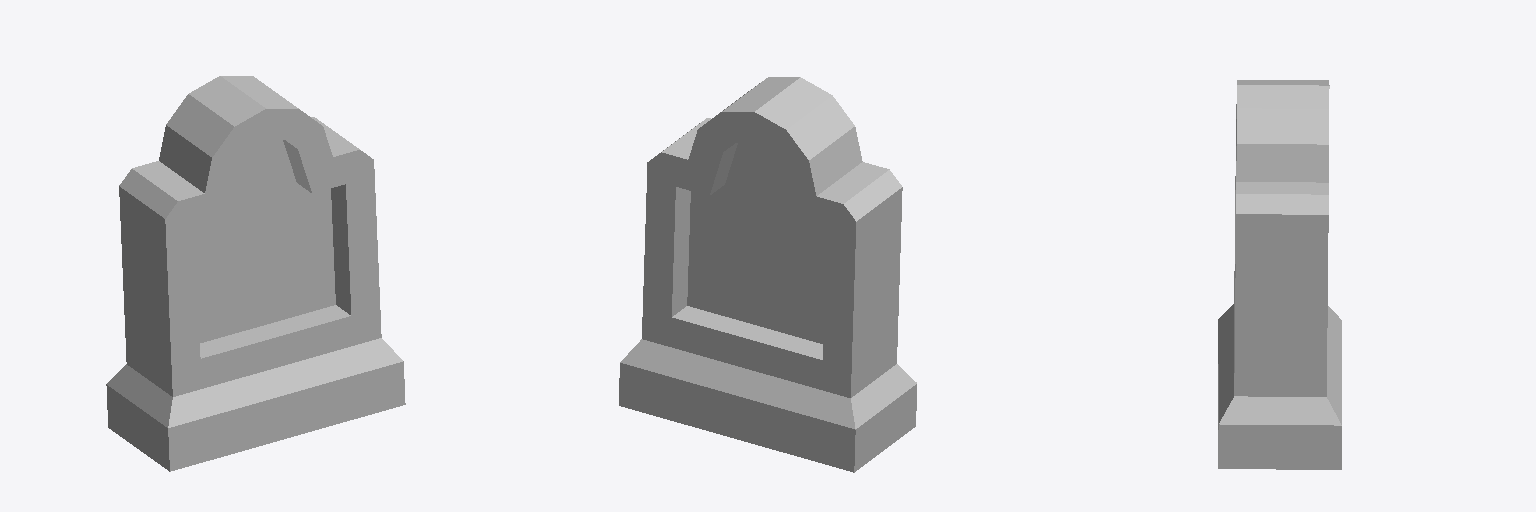
Rendered from Gravestone_Bevel_1 2.obj.
The picture shows the model from 3 angles: view 1: azimuth 30°, elevation 25°; view 2: azimuth 150°, elevation 25°; view 3: azimuth 270°, elevation 25°; orthographic projection.
Visible parts, largest first — view 1: Gravestone_Bevel_1; view 2: Gravestone_Bevel_1; view 3: Gravestone_Bevel_1.
Boxes of the visible parts, x1,y1,x2,y2 form: Gravestone_Bevel_1: [106, 76, 405, 471]; Gravestone_Bevel_1: [619, 77, 916, 472]; Gravestone_Bevel_1: [1218, 80, 1341, 469].
Bounding box in the file's own units: 0.5428 × 0.7246 × 0.2457.